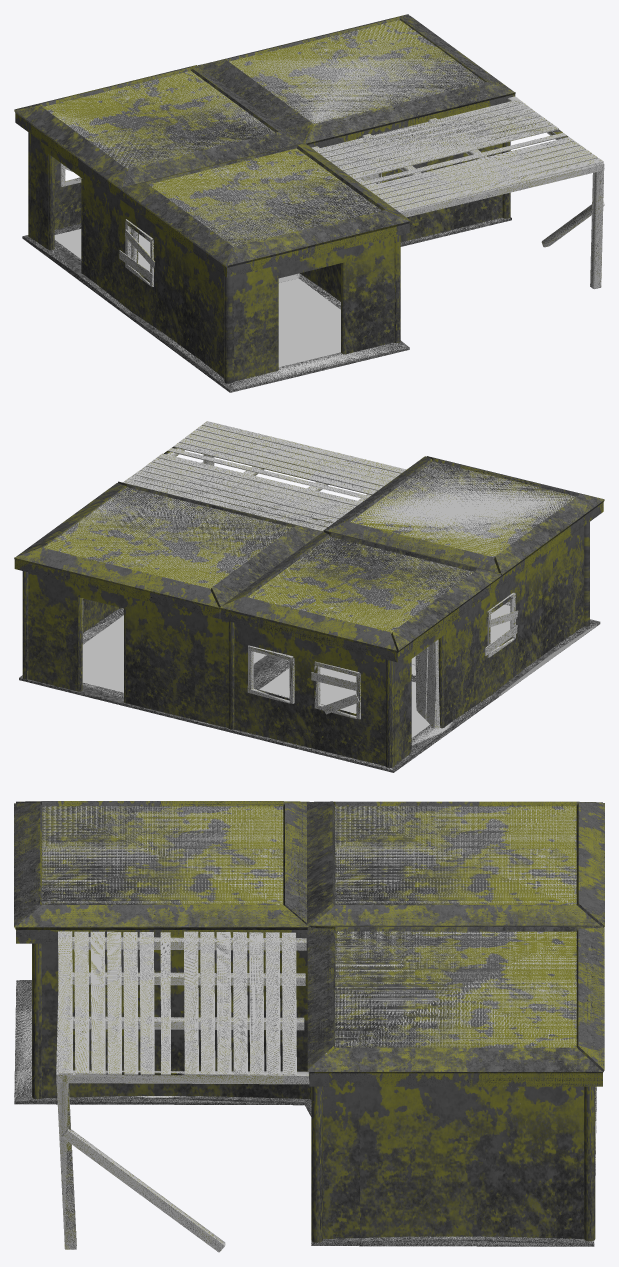
The model's file is old house 2.fbx.
3 renders of one model, top to bottom at view 1: azimuth 30°, elevation 25°; view 2: azimuth 150°, elevation 25°; view 3: azimuth 270°, elevation 25°, orthographic. The views are drawn at different scales.
Visible parts, largest first — view 1: Group1; view 2: Group1; view 3: Group1.
Boxes of the visible parts, x1,y1,x2,y2 form: Group1: (14,14,604,392); Group1: (14,421,604,772); Group1: (14,801,604,1252).
Bounding box in the file's own units: 453 × 153 × 421.
